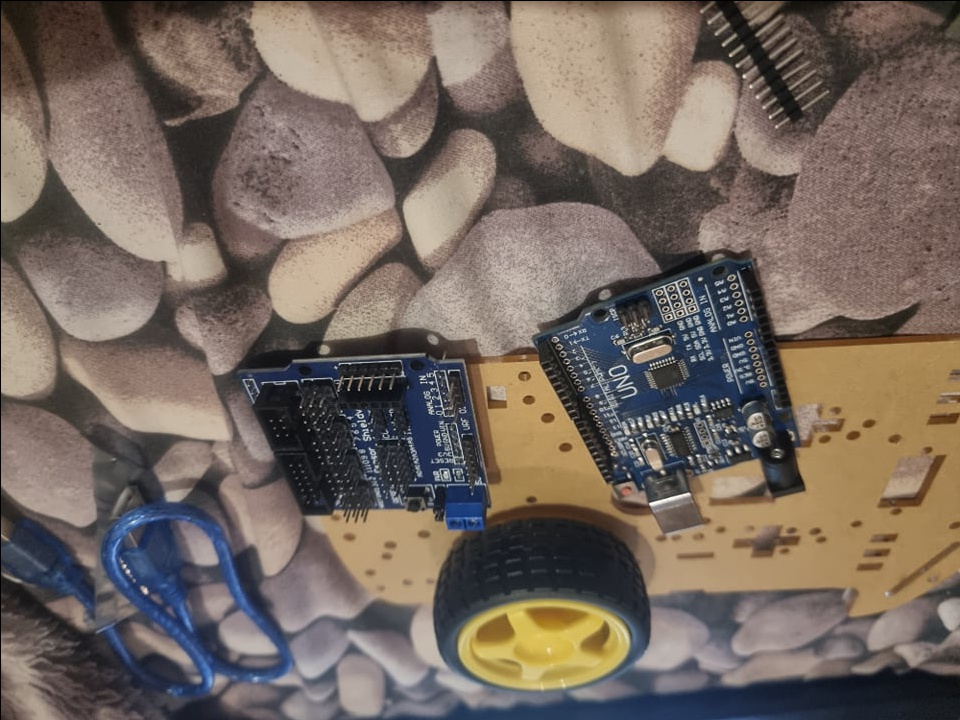5V EXPANSION: (238, 354, 489, 533)
UNO R3: (532, 251, 808, 533)
